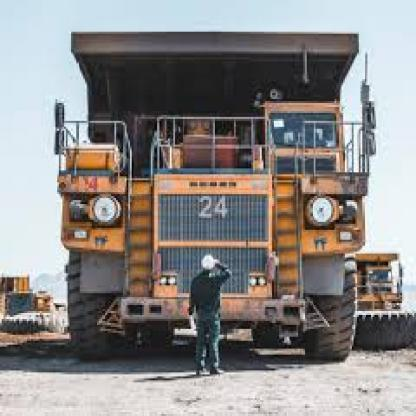dump_truck: (36, 18, 378, 366)
